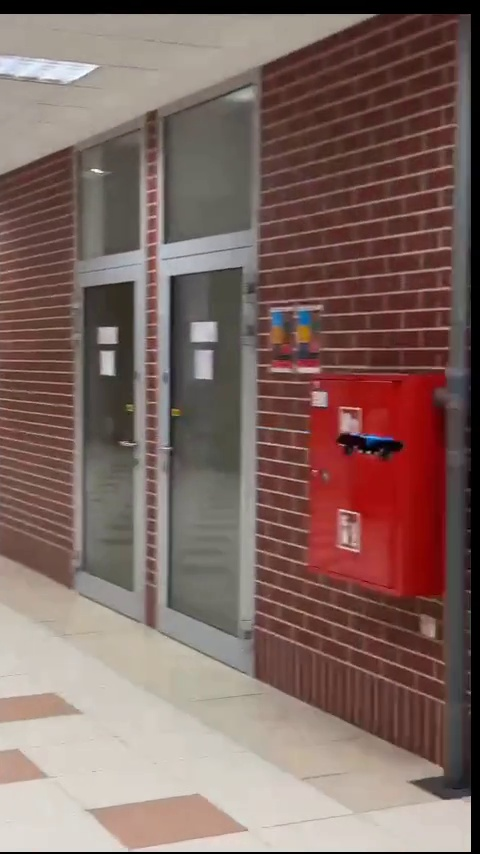drone: (340, 434, 397, 461)
